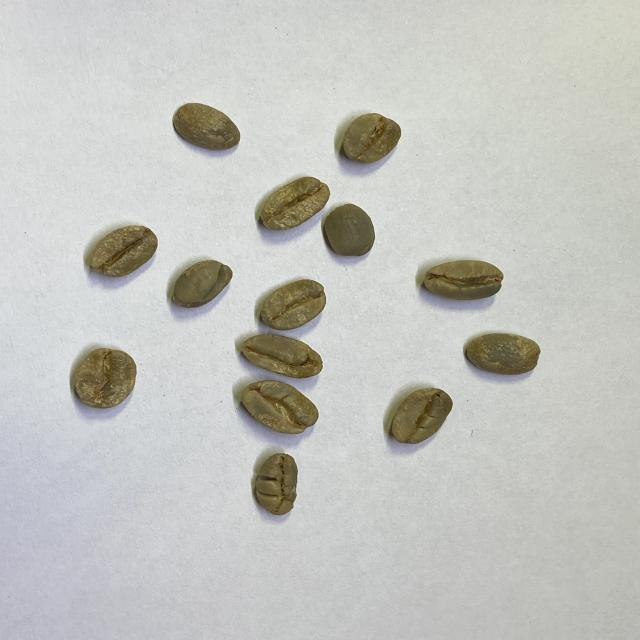bad: (239, 332, 324, 380), (74, 346, 137, 408), (253, 452, 300, 516), (174, 258, 231, 309)
good: (241, 380, 318, 436), (87, 222, 157, 278), (258, 176, 330, 230), (258, 276, 330, 330), (389, 386, 454, 444), (173, 100, 241, 151), (422, 258, 503, 300), (342, 110, 401, 164), (323, 202, 377, 260), (464, 332, 540, 373)
